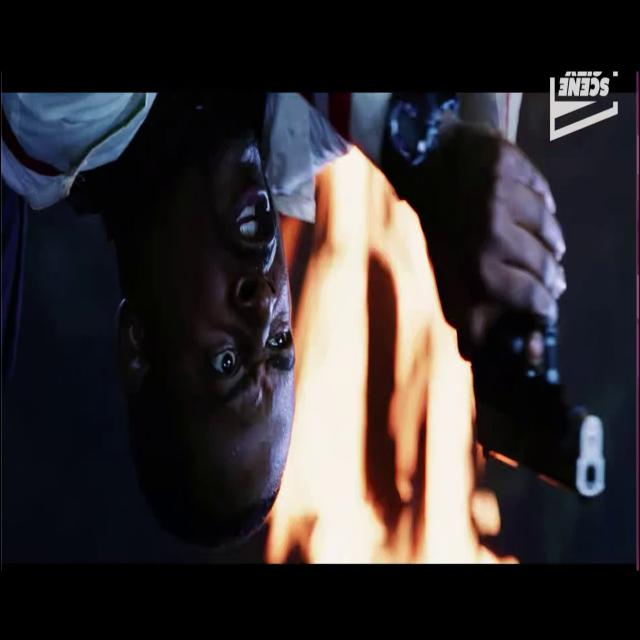weapons: (448, 230, 612, 516)
